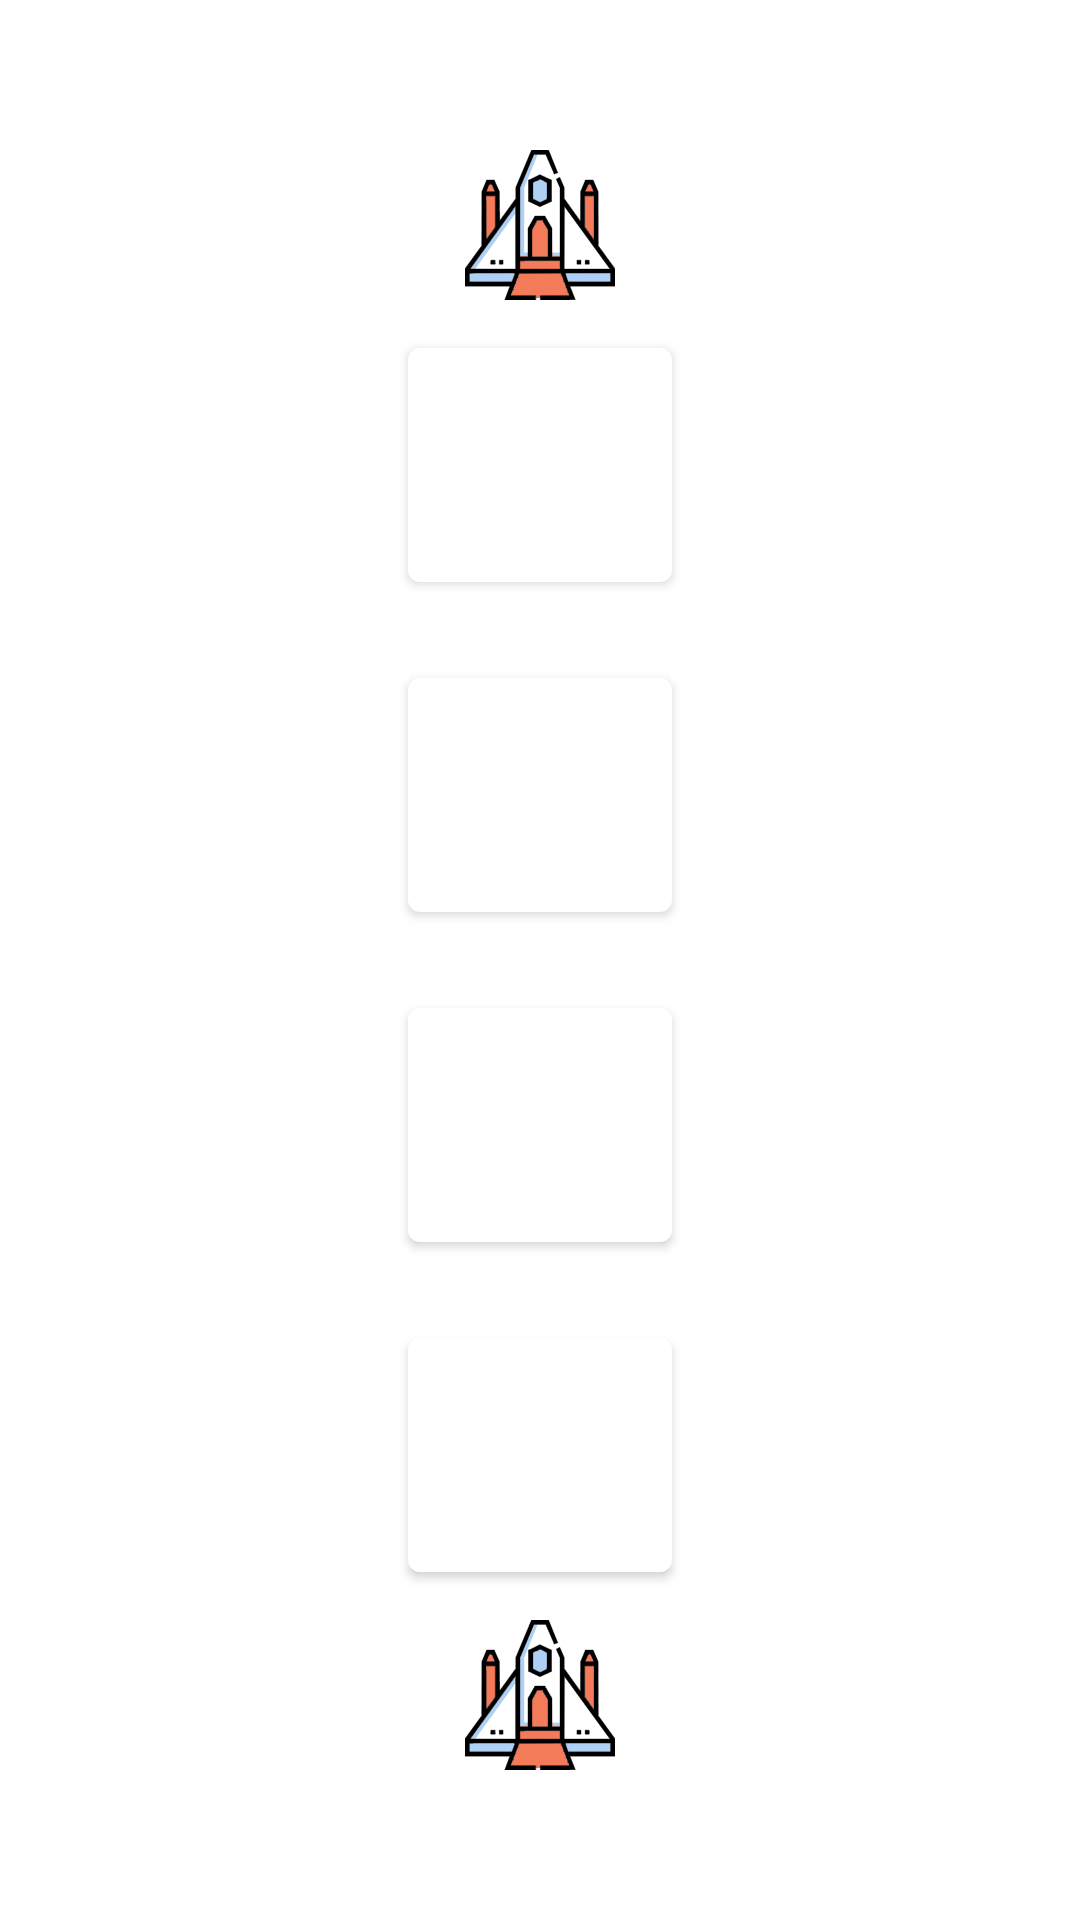

Screen size 1080*1920. Icon name, then its box in pixels as (x1, y1, x2, y2):
spaceship: (465, 150, 615, 300), (465, 1620, 615, 1770)
